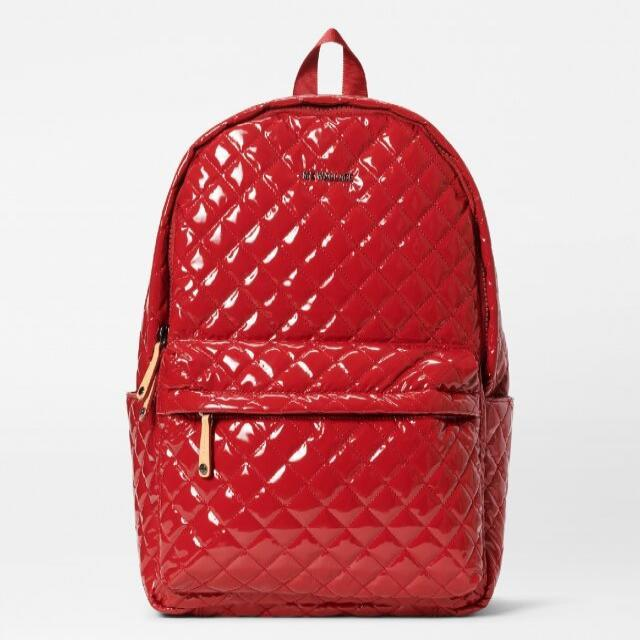Backpacks: (118, 89, 516, 624)
